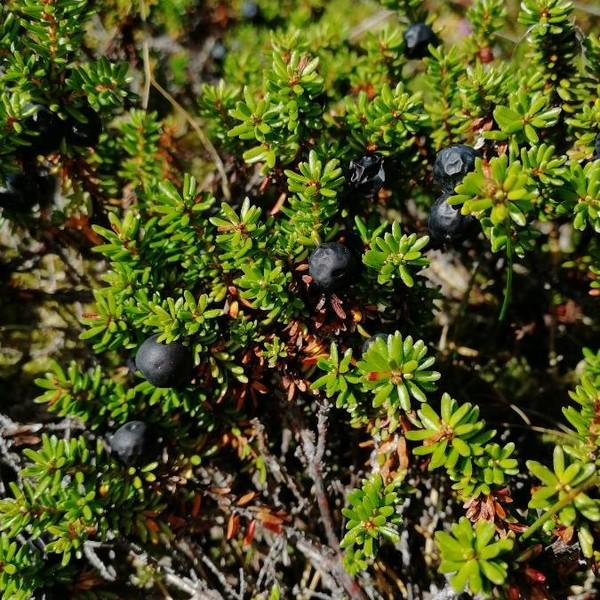obstacle: (128, 25, 533, 544)
